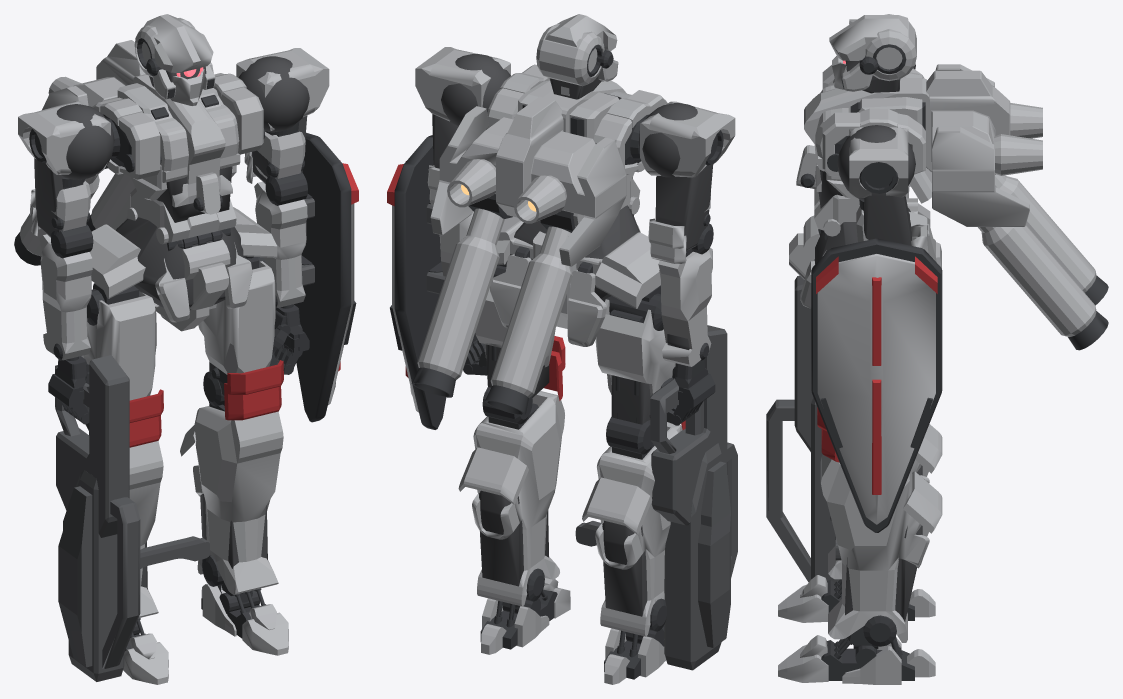
Rendered from enemy_ms.glb.
The picture shows the model from 3 angles, left to right: view 1: azimuth 30°, elevation 25°; view 2: azimuth 150°, elevation 25°; view 3: azimuth 270°, elevation 25°; orthographic projection. The views are drawn at different scales.
Visible parts, largest first — view 1: torso, rifle, leg_L_lower, pelvis, shield, leg_L_upper, arm_R_upper, leg_R_upper, arm_L_upper, backpack, head, arm_R_lower (+6 smaller); view 2: backpack, rifle, leg_L_lower, leg_R_lower, torso, pelvis, shield, arm_R_upper, leg_R_upper, head, arm_R_lower, arm_L_upper (+6 smaller); view 3: shield, backpack, leg_L_lower, torso, rifle, arm_L_upper, head, foot_L, pelvis, foot_R, leg_R_lower.
Part boxes in pixels (<box>): torso: <box>56,56,309,242</box>; rifle: <box>55,355,209,681</box>; leg_L_lower: <box>180,402,283,602</box>; pelvis: <box>89,207,277,331</box>; shield: <box>294,132,358,422</box>; leg_L_upper: <box>198,257,283,420</box>; arm_R_upper: <box>18,101,110,258</box>; leg_R_upper: <box>81,283,163,447</box>; arm_L_upper: <box>236,48,329,205</box>; backpack: <box>14,40,213,265</box>; head: <box>134,14,215,105</box>; arm_R_lower: <box>39,234,92,360</box>; backpack: <box>411,96,626,415</box>; rifle: <box>575,325,737,670</box>; leg_L_lower: <box>458,391,564,607</box>; leg_R_lower: <box>582,422,682,637</box>; torso: <box>441,53,697,220</box>; pelvis: <box>490,196,660,346</box>; shield: <box>387,135,446,429</box>; arm_R_upper: <box>640,101,735,263</box>; leg_R_upper: <box>595,285,685,454</box>; head: <box>536,14,618,99</box>; arm_R_lower: <box>658,248,712,366</box>; arm_L_upper: <box>415,47,510,204</box>; shield: <box>811,238,942,532</box>; backpack: <box>926,64,1108,350</box>; leg_L_lower: <box>820,454,942,649</box>; torso: <box>796,63,931,230</box>; rifle: <box>766,275,841,582</box>; arm_L_upper: <box>849,127,928,252</box>; head: <box>829,14,916,93</box>; foot_L: <box>778,635,935,684</box>; pelvis: <box>789,198,941,308</box>; foot_R: <box>778,575,935,622</box>; leg_R_lower: <box>828,424,942,579</box>.
Size of the model in its own units: 9.67 by 18.5 by 9.14.
